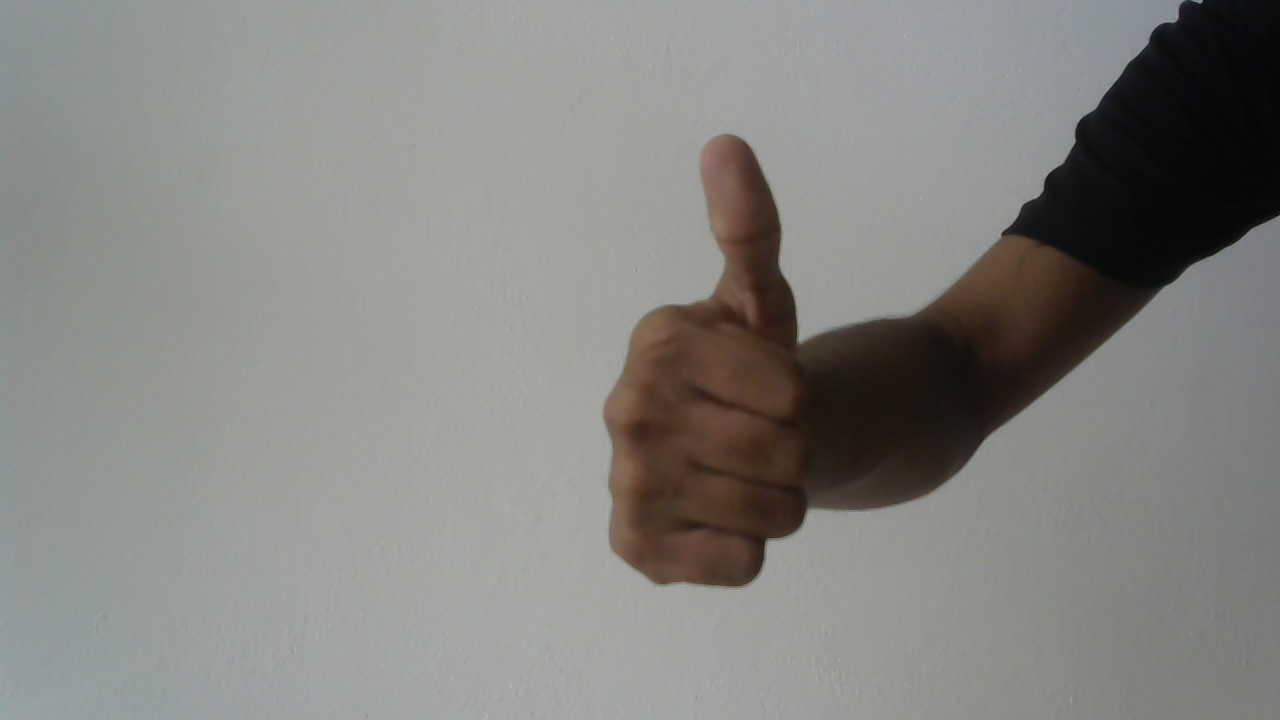thumbsup: (589, 137, 840, 610)
